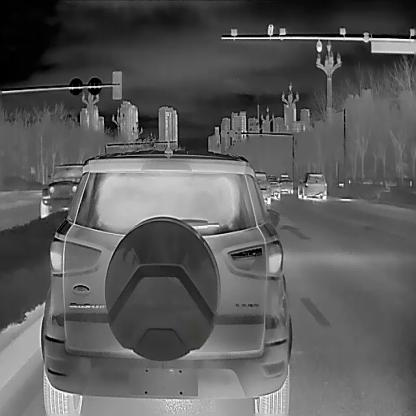car: (39, 145, 292, 412), (38, 162, 90, 217), (296, 171, 326, 200), (253, 170, 270, 204), (264, 175, 279, 199), (279, 172, 292, 194)
